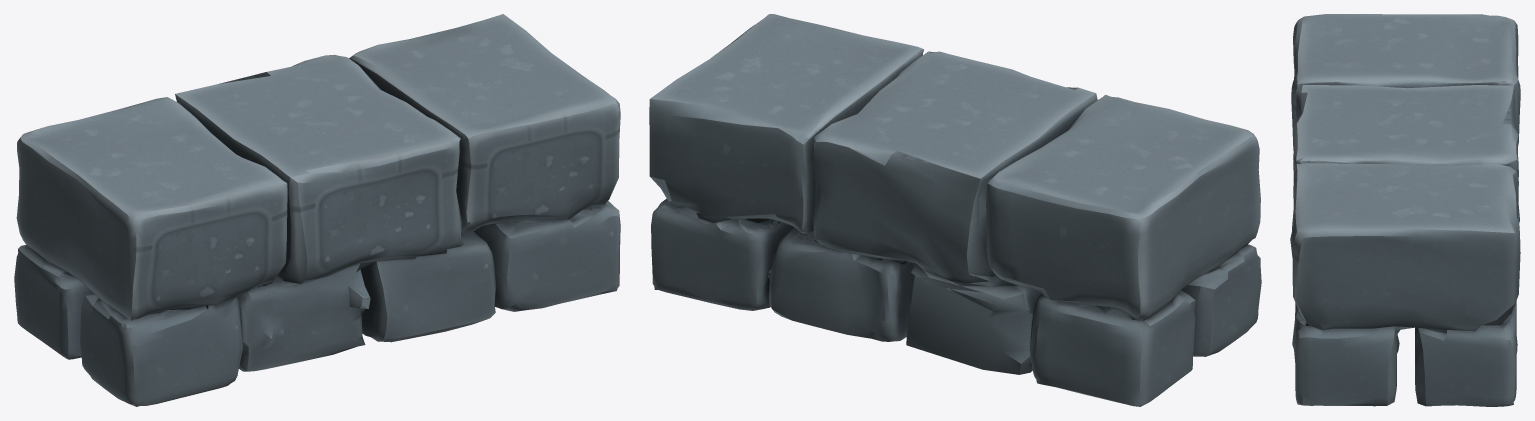
Rendered from brick_double_cinder.glb.
3 views of the same model, side by side, from view 1: azimuth 30°, elevation 25°; view 2: azimuth 150°, elevation 25°; view 3: azimuth 270°, elevation 25° (orthographic). The views are drawn at different scales.
Visible parts, largest first — view 1: Mesh_0; view 2: Mesh_0; view 3: Mesh_0.
Part boxes in pixels (left/top/right/bottom): Mesh_0: left=14, top=14, right=620, bottom=406; Mesh_0: left=649, top=14, right=1261, bottom=406; Mesh_0: left=1290, top=14, right=1520, bottom=406.
Bounding box in the file's own units: 1.9 × 0.7054 × 0.8302.
1 material, 1 textured.
